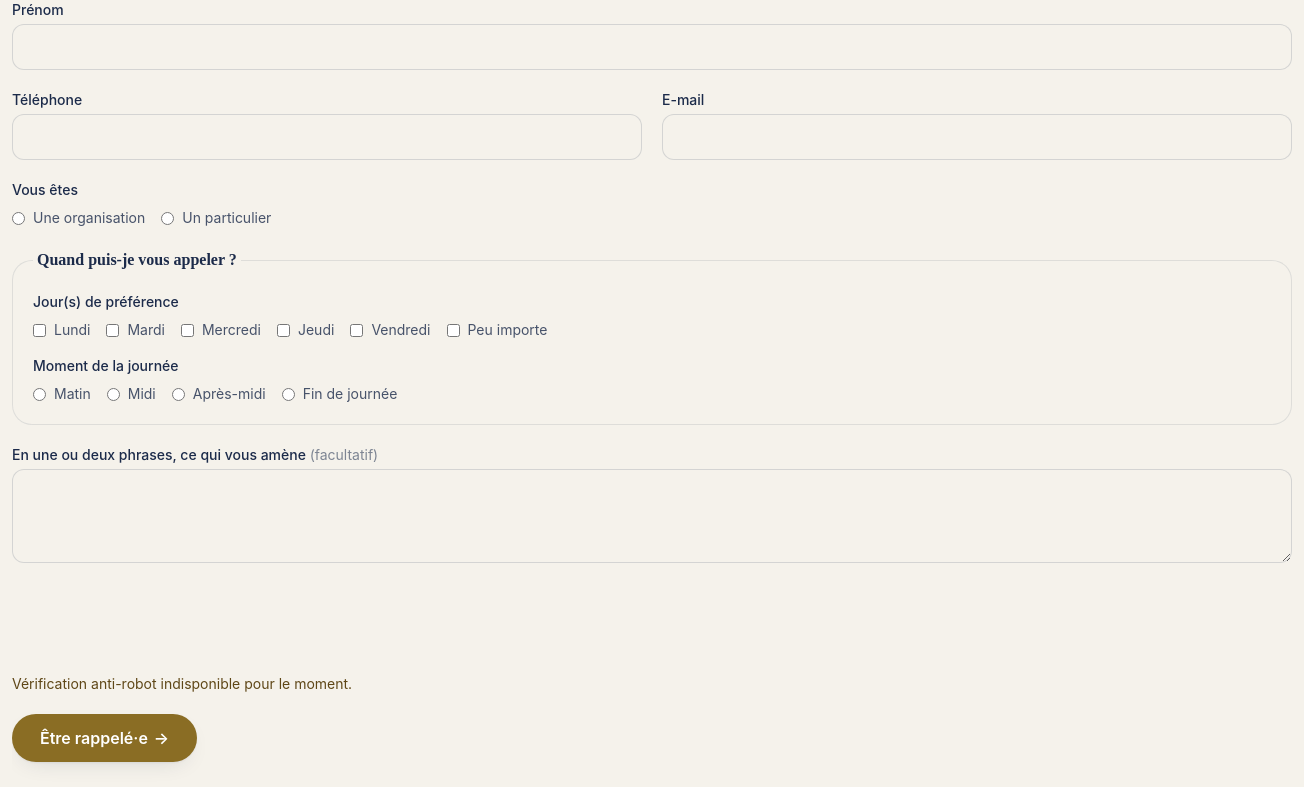
Scenario: ContactForm › exige un numéro de téléphone et un créneau ; le message reste facultatif
Step 1. Type "06 12" into the field with id "cf-phone" → coordinates (327, 137), box top-left (12, 114), bottom-right (642, 160)
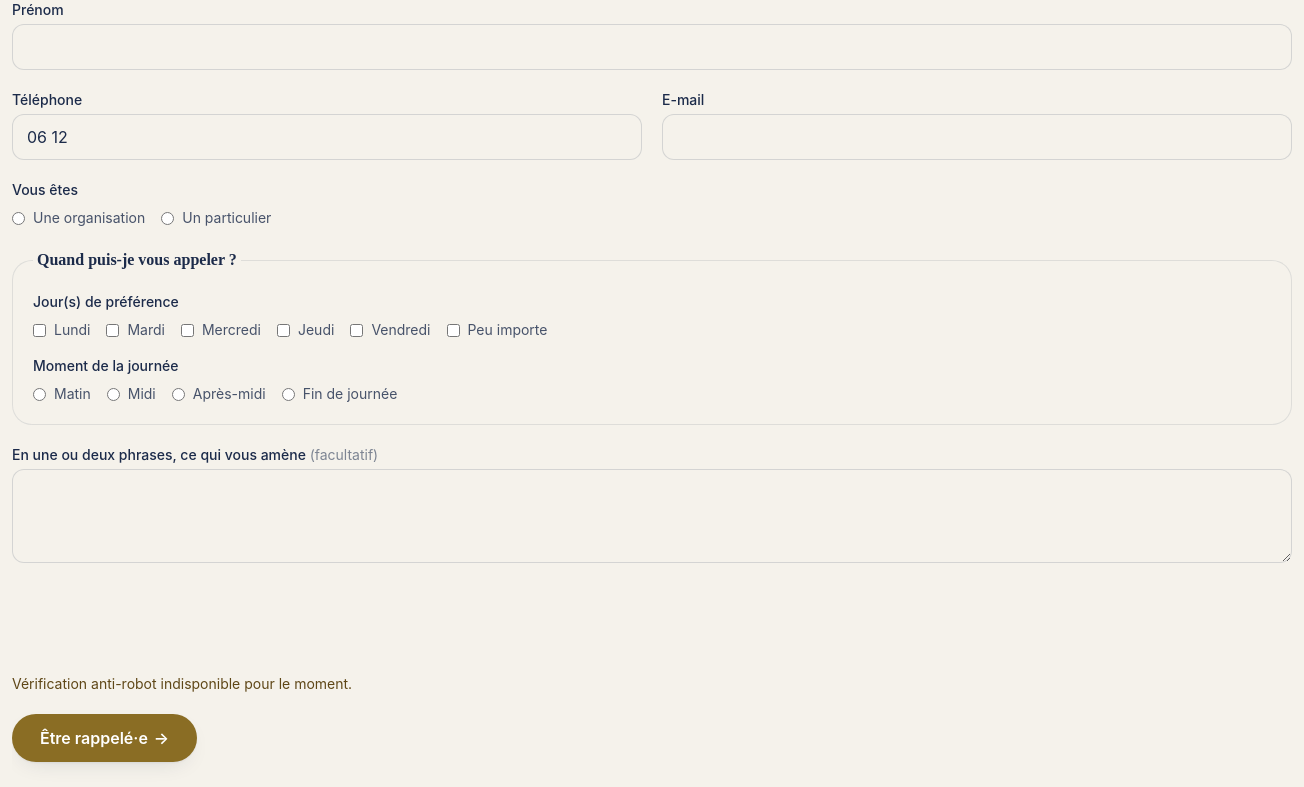
Step 2. Submit the form
(page scrolled)
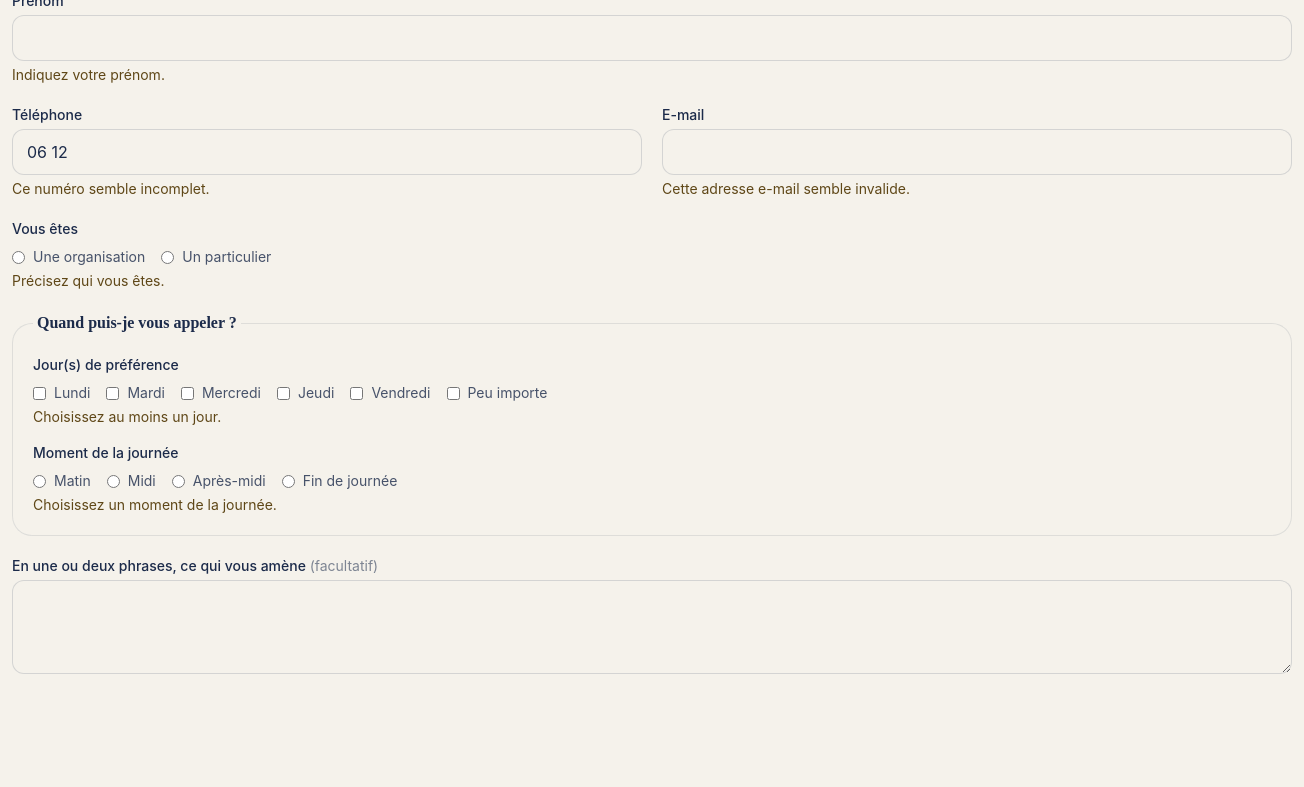
Now the message "Ce numéro semble incomplet." is shown, box top-left (12, 180), bottom-right (210, 197)
Now the form shows "Choisissez au moins un jour.", box top-left (33, 408), bottom-right (221, 425)
Now the form shows "Choisissez un moment de la journée.", box top-left (33, 496), bottom-right (277, 513)
